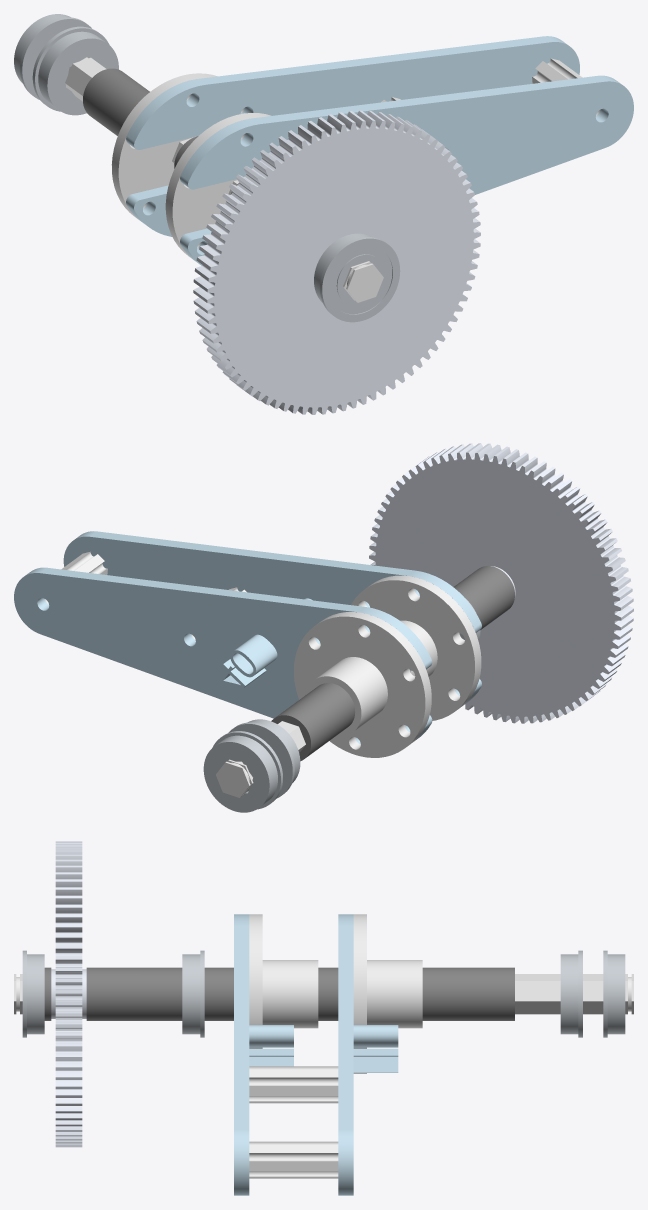
3 views of the same model, one above another, from view 1: azimuth 30°, elevation 25°; view 2: azimuth 150°, elevation 25°; view 3: azimuth 270°, elevation 25° (orthographic). The views are drawn at different scales.
Visible parts, largest first — view 1: Model_4; view 2: Model_4; view 3: Model_4.
Boxes of the visible parts, <box> form: Model_4: <box>14,14,633,414</box>; Model_4: <box>14,443,633,812</box>; Model_4: <box>14,841,633,1195</box>.
Size of the model in its own units: 0.207 by 0.1092 by 0.2213.
